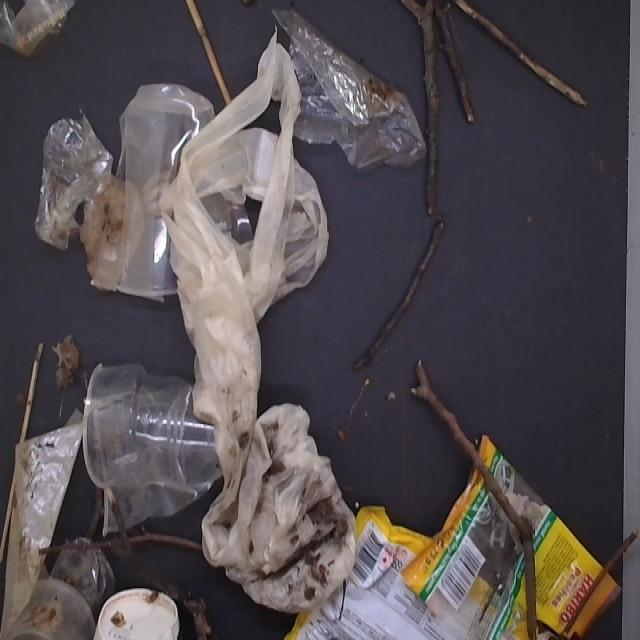food_packaging: (85, 584, 194, 640)
food_wrapping: (267, 465, 526, 640), (425, 416, 601, 640)
plastic_cups: (113, 64, 227, 351), (78, 354, 243, 528), (0, 0, 90, 72)
plastic_films: (164, 63, 362, 608), (253, 18, 424, 212), (5, 397, 76, 639), (27, 113, 112, 283)
